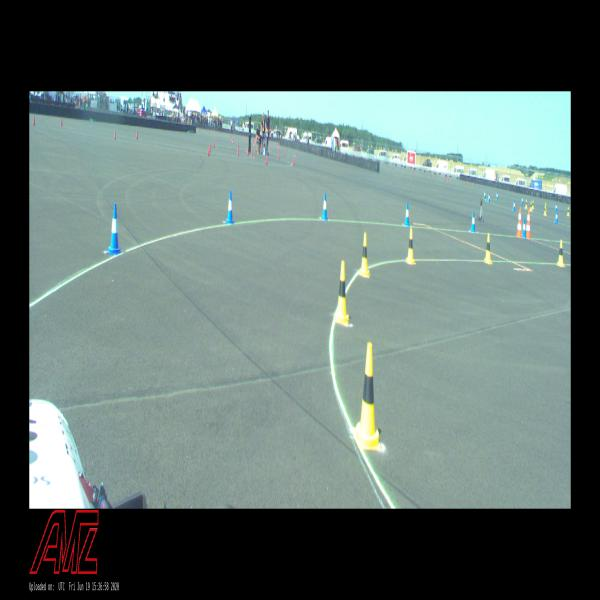blue_cone: (106, 202, 122, 256), (225, 190, 234, 224), (321, 193, 328, 220), (404, 203, 410, 226), (470, 211, 476, 232), (555, 212, 558, 223), (513, 200, 515, 212), (488, 193, 490, 203), (522, 195, 524, 204), (484, 190, 486, 199), (556, 203, 558, 211), (496, 192, 498, 200)
large_orange_cone: (516, 206, 522, 236), (526, 209, 530, 238), (522, 218, 526, 238)
yellow_cone: (354, 342, 381, 450), (334, 260, 350, 326), (359, 232, 370, 277), (406, 228, 415, 264), (484, 233, 492, 263), (557, 239, 564, 267), (525, 199, 527, 209), (567, 207, 569, 216), (532, 200, 534, 209), (530, 202, 532, 210), (544, 207, 546, 215), (544, 202, 546, 209)
